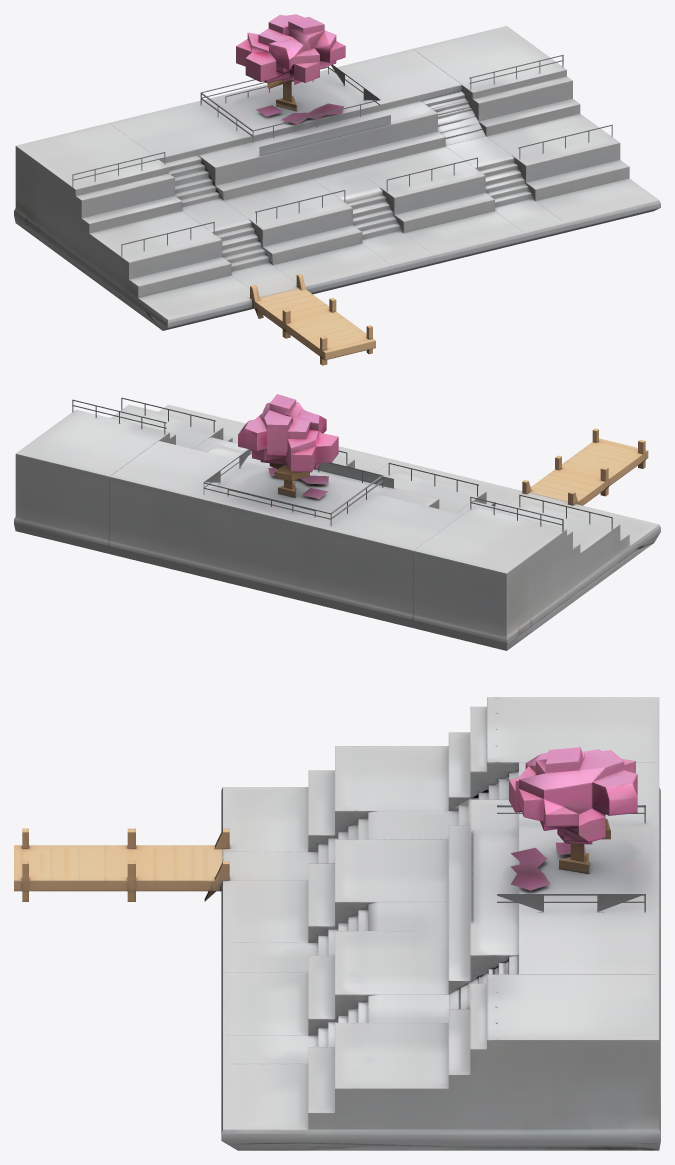
Rendered from muelle.obj.
3 views of the same model, one above another, from view 1: azimuth 30°, elevation 25°; view 2: azimuth 150°, elevation 25°; view 3: azimuth 270°, elevation 25° (orthographic). The views are drawn at different scales.
Parts seen in each view (by area): view 1: model; view 2: model; view 3: model.
Boxes of the visible parts, left/top/right/bottom form: model: left=14, top=14, right=660, bottom=365; model: left=14, top=394, right=660, bottom=650; model: left=14, top=697, right=660, bottom=1150.
Bounding box in the file's own units: 1.9 × 0.5969 × 1.51.
Materials: 1 (1 with a texture image).
